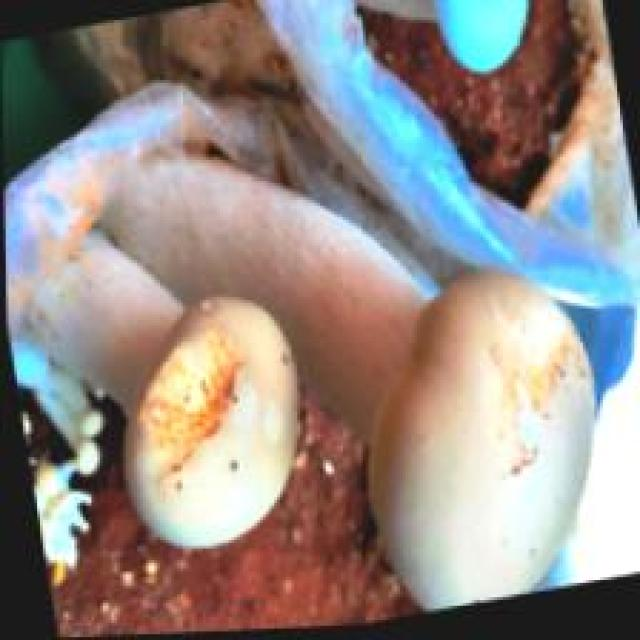field-mushroom: (363, 266, 597, 611), (120, 292, 303, 548)
